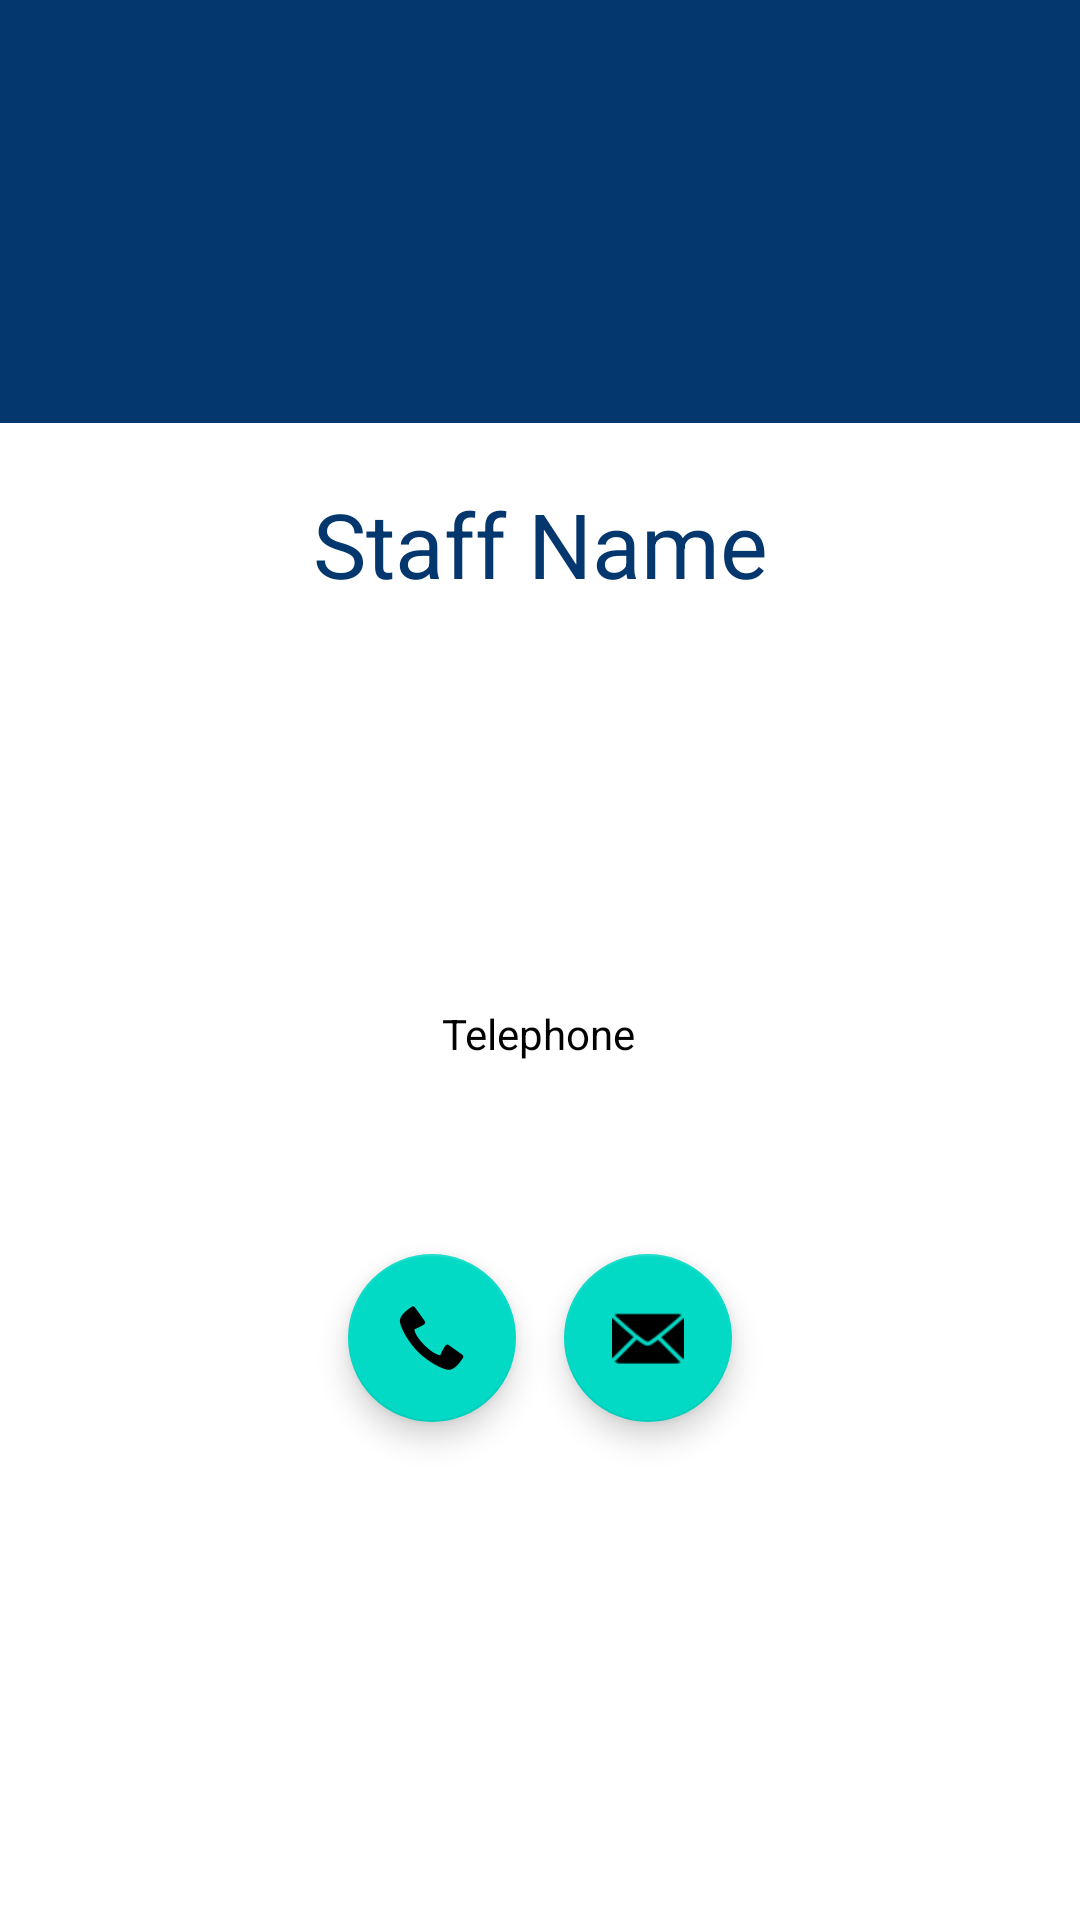

Named icons in this screenshot (1080×1920) and their bounding boxes, [x1,y1,x2,y2]:
Staff Email: [564,1254,732,1422]
Staff Phone Call: [348,1254,516,1422]
